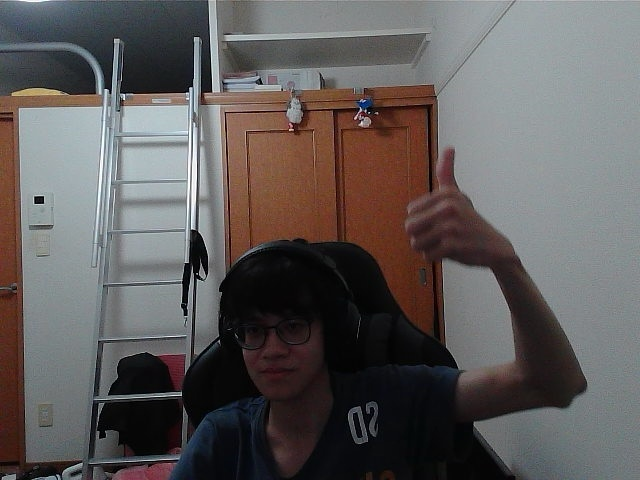thumb_up: (412, 156, 493, 254)
